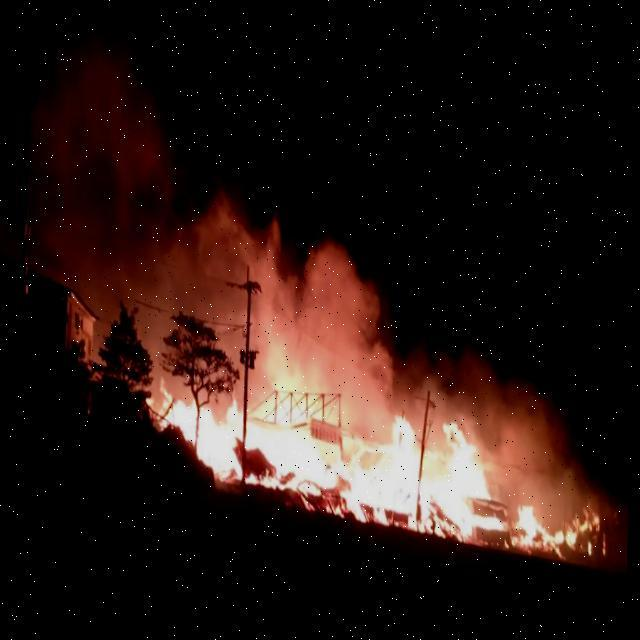Fire: (140, 357, 613, 538)
